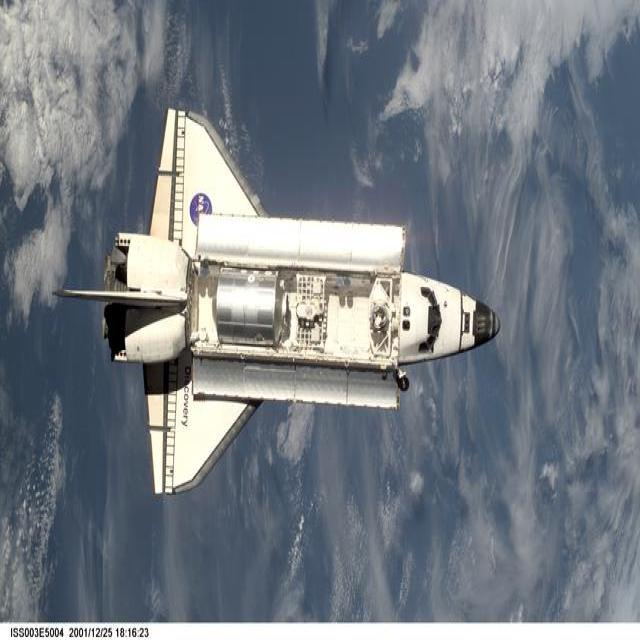satellite: (56, 108, 500, 494)
